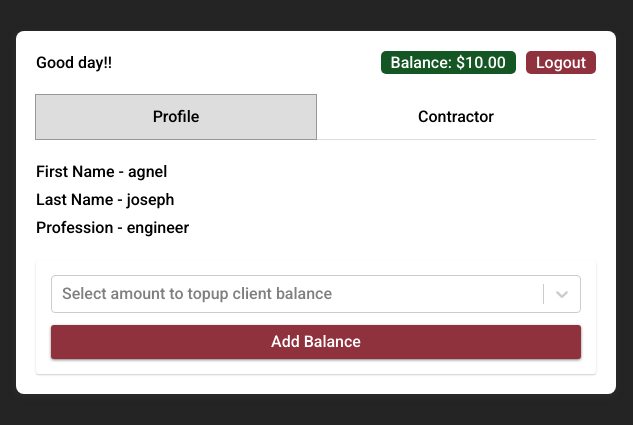
Test case: DashboardPage › should display error message when a payment exceeds balance
The image size is (633, 425).
Expected: the list is shown, [36, 94, 596, 140]
Click the tab "Contractor": [456, 116] box [418, 106, 494, 126]
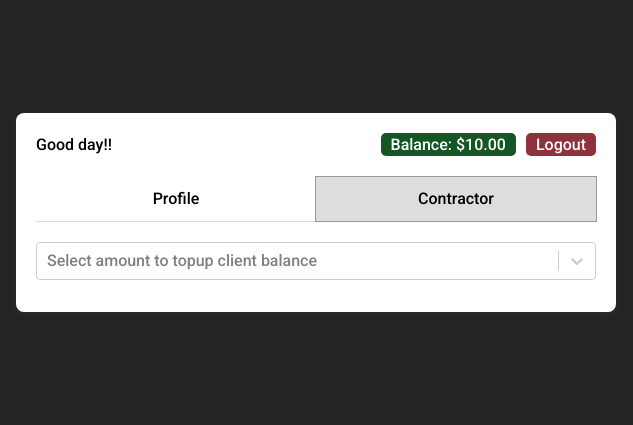
Click the element showing "Select amount to topup client balance": [316, 260] box [36, 242, 596, 280]
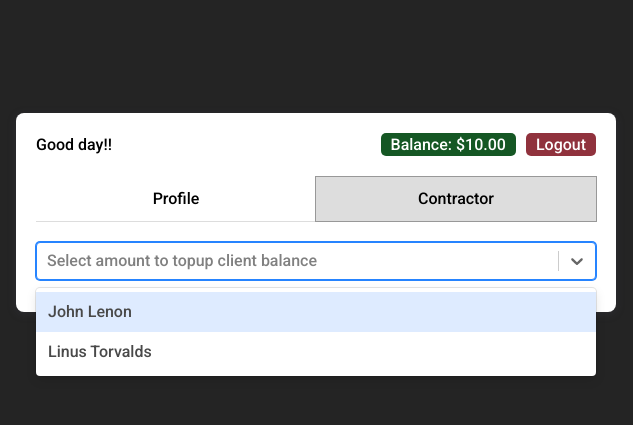
Click the option "John Lenon": [90, 311] box [36, 292, 596, 332]
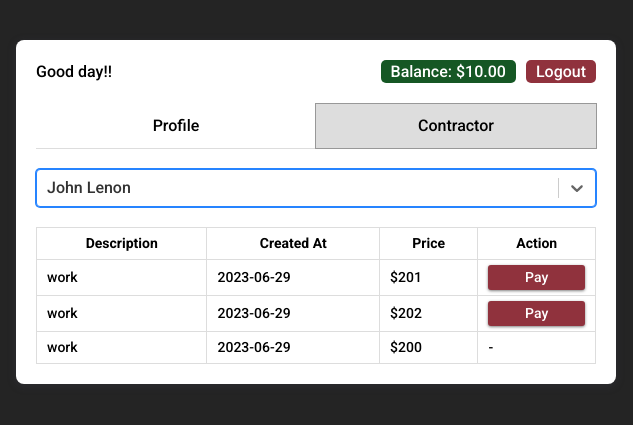
Click the button "Pay" next to "201": [537, 278] box [488, 265, 585, 290]
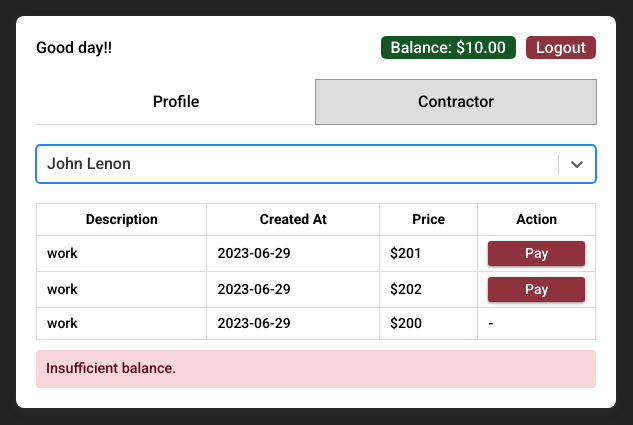
Result: the text "Insufficient balance." is shown at [36, 350, 596, 388]
